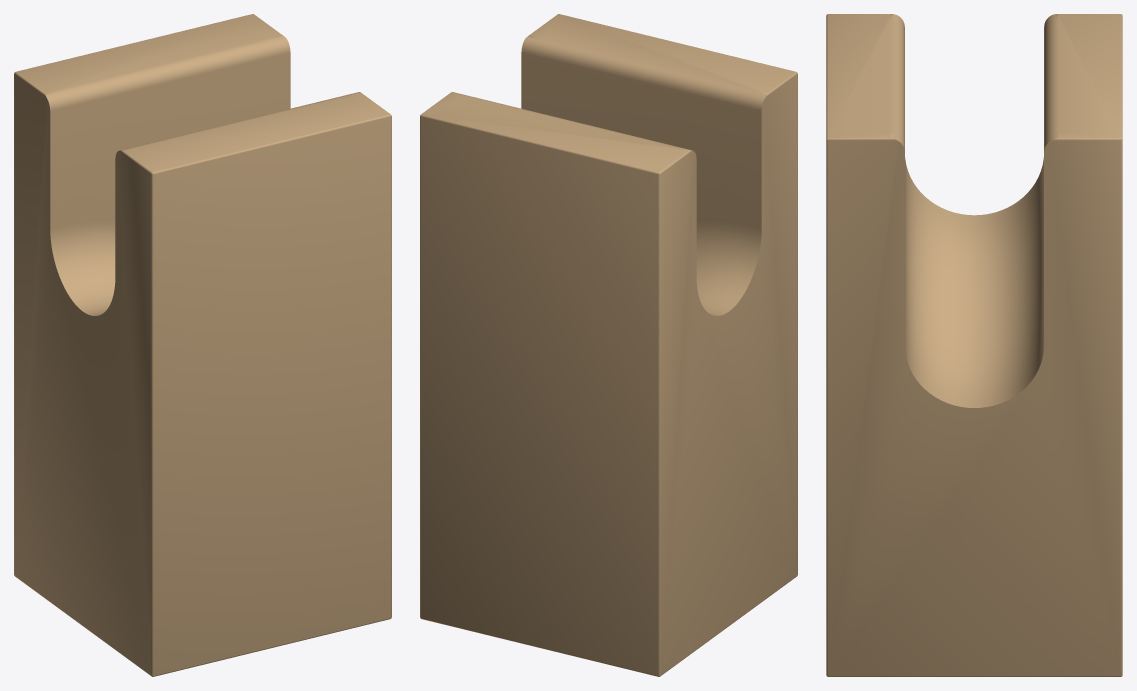
The model's file is blk_slope_gentle_l1.glb.
The picture shows the model from 3 angles, left to right: view 1: azimuth 30°, elevation 25°; view 2: azimuth 150°, elevation 25°; view 3: azimuth 270°, elevation 25°; orthographic projection. The views are drawn at different scales.
Visible parts, largest first — view 1: blk_slope_gentle_l1_lod0; view 2: blk_slope_gentle_l1_lod0; view 3: blk_slope_gentle_l1_lod0.
Part boxes in pixels (x1,y1,x2,y2): blk_slope_gentle_l1_lod0: (14,14,391,676); blk_slope_gentle_l1_lod0: (420,14,797,676); blk_slope_gentle_l1_lod0: (826,14,1122,676).
Size of what is drawn, in the model's own units: 0.0596 by 0.1196 by 0.0596.
